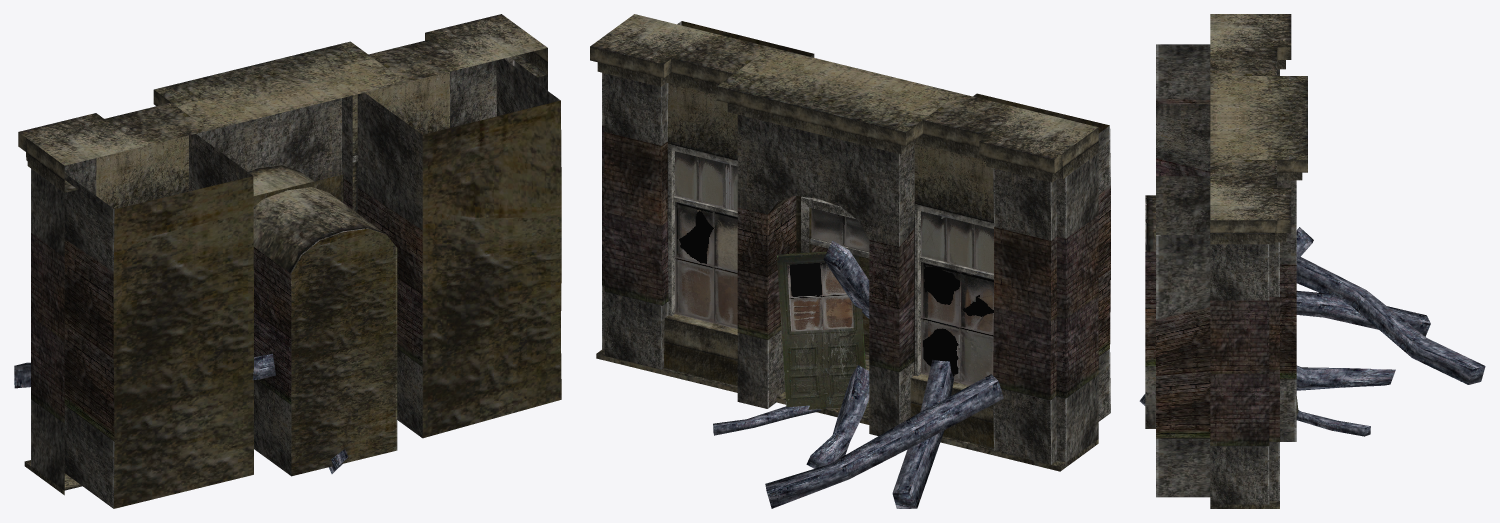
Rendered from Store_front_39.fbx.
3 renders of one model, left to right at view 1: azimuth 30°, elevation 25°; view 2: azimuth 150°, elevation 25°; view 3: azimuth 270°, elevation 25°, orthographic. The views are drawn at different scales.
Visible parts, largest first — view 1: Store_front_39; view 2: Store_front_39; view 3: Store_front_39.
Boxes of the visible parts, <box> form: Store_front_39: <box>14,14,561,508</box>; Store_front_39: <box>590,14,1110,508</box>; Store_front_39: <box>1139,14,1485,508</box>.
Size of the model in its own units: 700 by 474 by 496.
